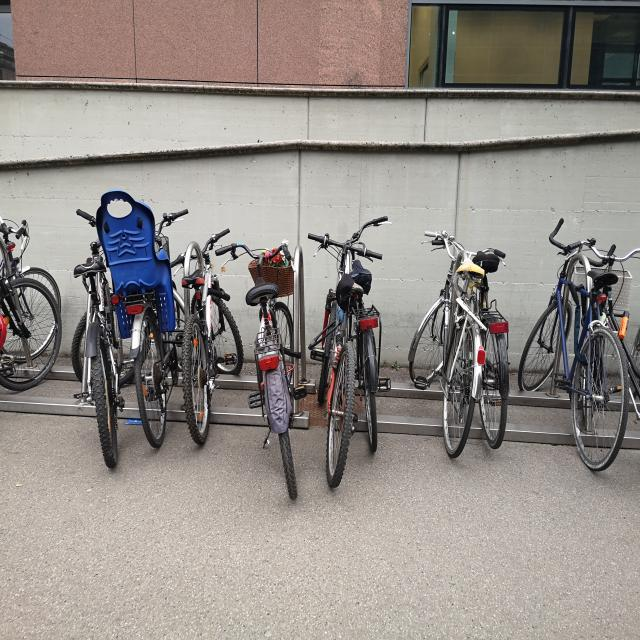Bicycle: (525, 172, 630, 493), (222, 221, 302, 520), (106, 190, 187, 471), (57, 208, 131, 483), (310, 216, 372, 500), (417, 242, 493, 457), (182, 233, 245, 458), (355, 225, 406, 472), (593, 236, 640, 479), (471, 235, 521, 454), (0, 223, 52, 430), (0, 241, 56, 324)
